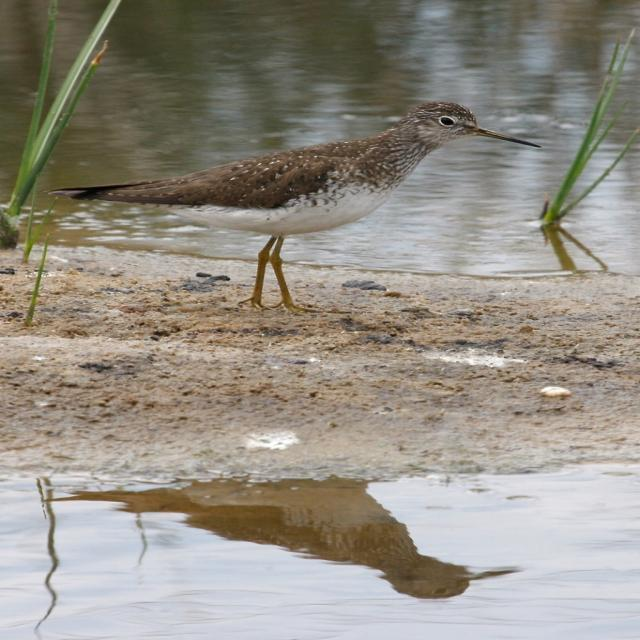bird: (49, 96, 565, 313)
